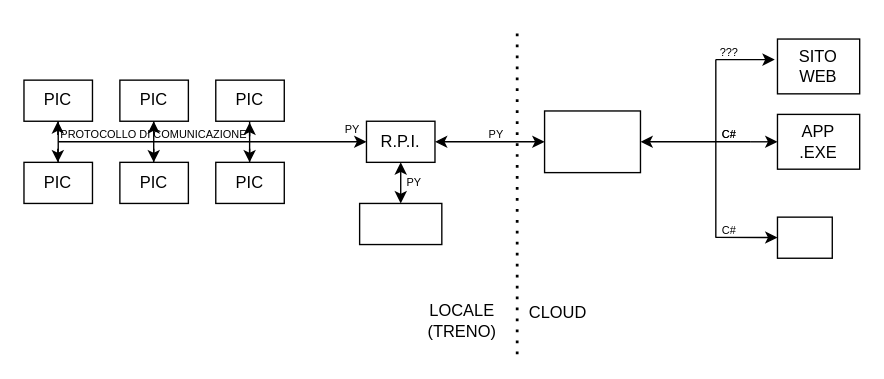
Some shapes in this 884 by 379 pixel diagram are drawn without their labels. Here are the shapes that lost their labels. From the top down, the centre of each, then its label:
point 591,141: BROKER MQTT
point 400,223: REDIS
point 804,237: DB
